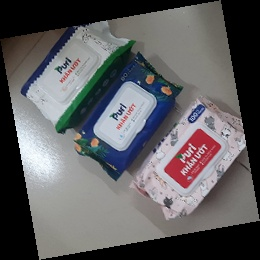Puri Trang: (21, 18, 136, 136)
Puri Xanh: (74, 50, 183, 180)
Puri hong: (129, 94, 252, 222)
